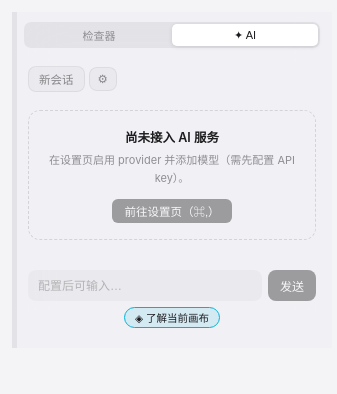
Test: AiThread 在途回合取消（issue #154） › busy 时输入行切换为取消按钮；取消后立即可发下一轮并追加「已取消」回执
Type "丰富开场" into the field named "AI 对话输入" at (145, 286), box [28,270,262,301]
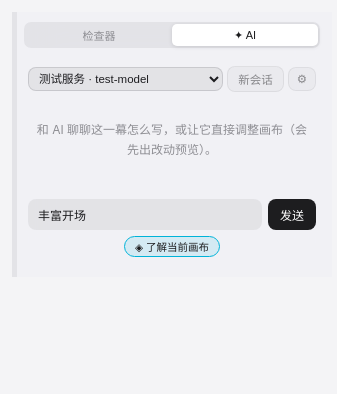
Press Enter in the field named "AI 对话输入", box [28,199,262,230]
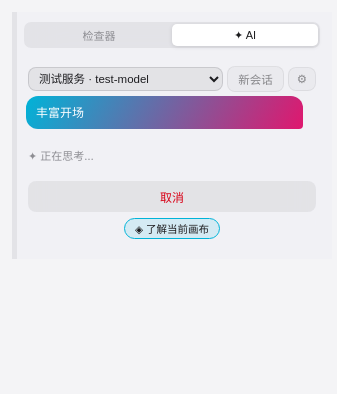
Expected: the text "✦ 正在思考…" is shown, [28,149,94,163]
Expected: the button "取消" is shown
Click the button "取消" at (172, 197), box [28,181,316,212]
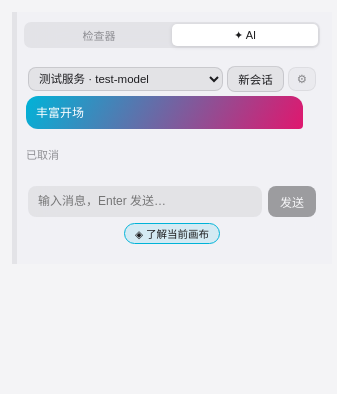
Expected: the text "已取消" is shown, [26,148,59,162]
Expected: the text "✦ 正在思考…" is gone
Expected: the field named "AI 对话输入" is enabled
Type "继续丰富" into the field named "AI 对话输入" at (145, 201), box [28,186,262,217]
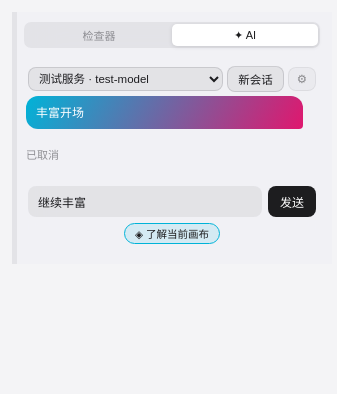
Press Enter in the field named "AI 对话输入", box [28,186,262,217]
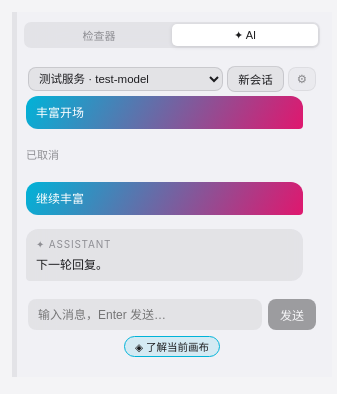
Expected: the text "已取消" is shown, [26,148,59,162]
Expected: the text "下一轮回复。" is shown, [36,257,108,272]
